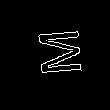M_W: (28, 30, 82, 80)
